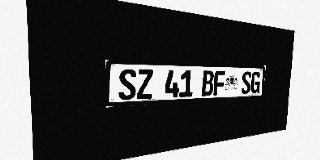1: (179, 70, 193, 97)
4: (165, 70, 180, 98)
B: (201, 71, 214, 96)
F: (213, 71, 226, 95)
G: (250, 71, 261, 94)
S: (119, 69, 136, 100), (241, 71, 252, 94)
Z: (137, 69, 153, 99)
